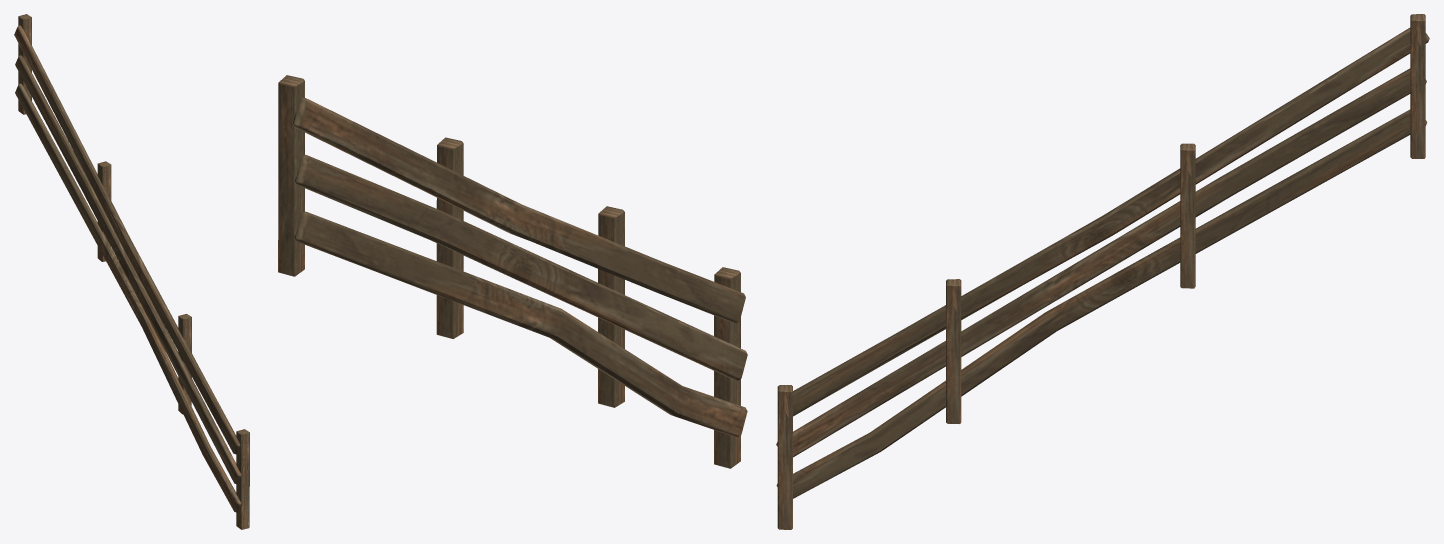
The model's file is SM_fence_05.fbx.
The picture shows the model from 3 angles, left to right: view 1: azimuth 30°, elevation 25°; view 2: azimuth 150°, elevation 25°; view 3: azimuth 270°, elevation 25°; orthographic projection. The views are drawn at different scales.
Parts seen in each view (by area): view 1: SM_fence_05_LOD0; view 2: SM_fence_05_LOD0; view 3: SM_fence_05_LOD0.
Part boxes in pixels (<box>): SM_fence_05_LOD0: <box>14,14,249,529</box>; SM_fence_05_LOD0: <box>278,75,747,468</box>; SM_fence_05_LOD0: <box>776,14,1429,529</box>.
Bounding box in the file's own units: 18.69 × 580 × 499.
1 material, 1 textured.
